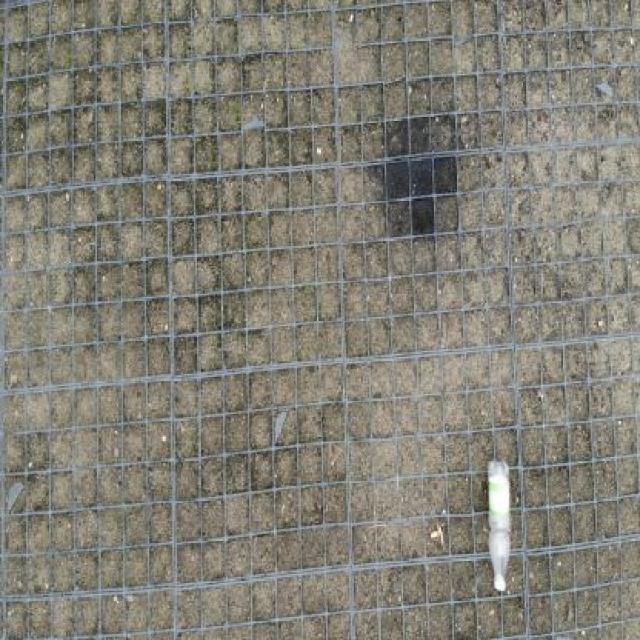Garbage: (487, 460, 511, 592)
